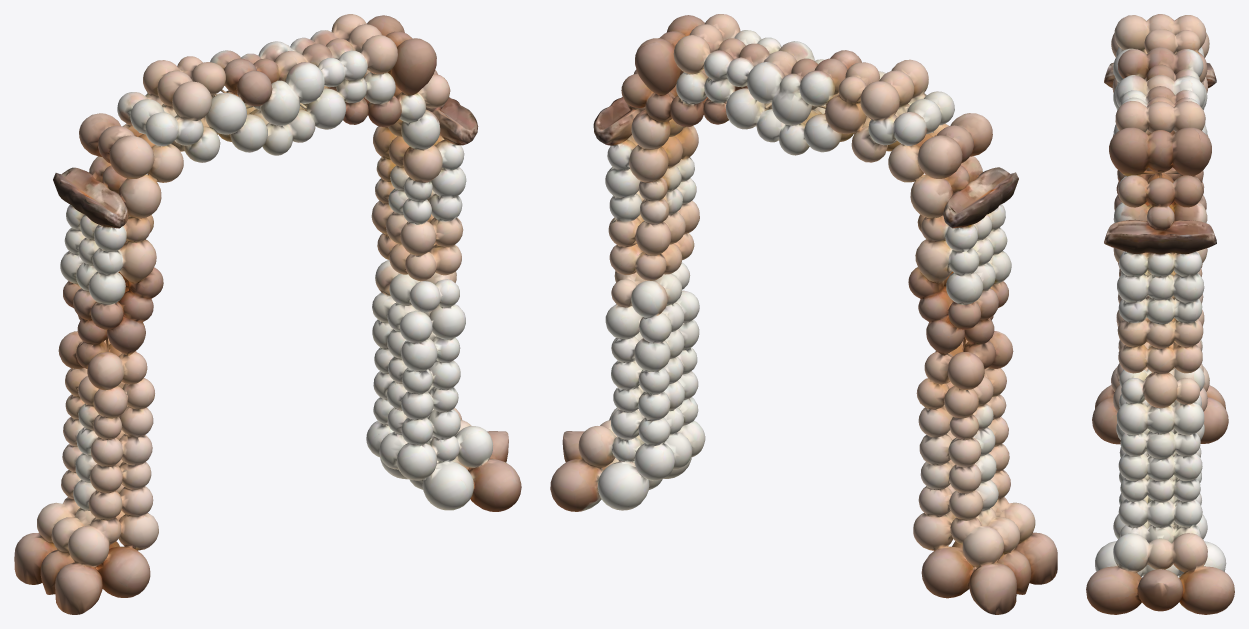
Rendered from archballoon.glb.
The picture shows the model from 3 angles, left to right: view 1: azimuth 30°, elevation 25°; view 2: azimuth 150°, elevation 25°; view 3: azimuth 270°, elevation 25°; orthographic projection. The views are drawn at different scales.
Visible parts, largest first — view 1: node_0; view 2: node_0; view 3: node_0.
Boxes of the visible parts, box(x1,y1,x2,y2) form: node_0: box(14, 14, 521, 614); node_0: box(550, 14, 1057, 614); node_0: box(1086, 14, 1234, 614).
Size of the model in its own units: 0.8437 by 0.8466 by 0.2469.
1 material, 1 textured.
